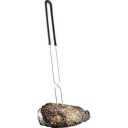Fork: (36, 2, 74, 113)
